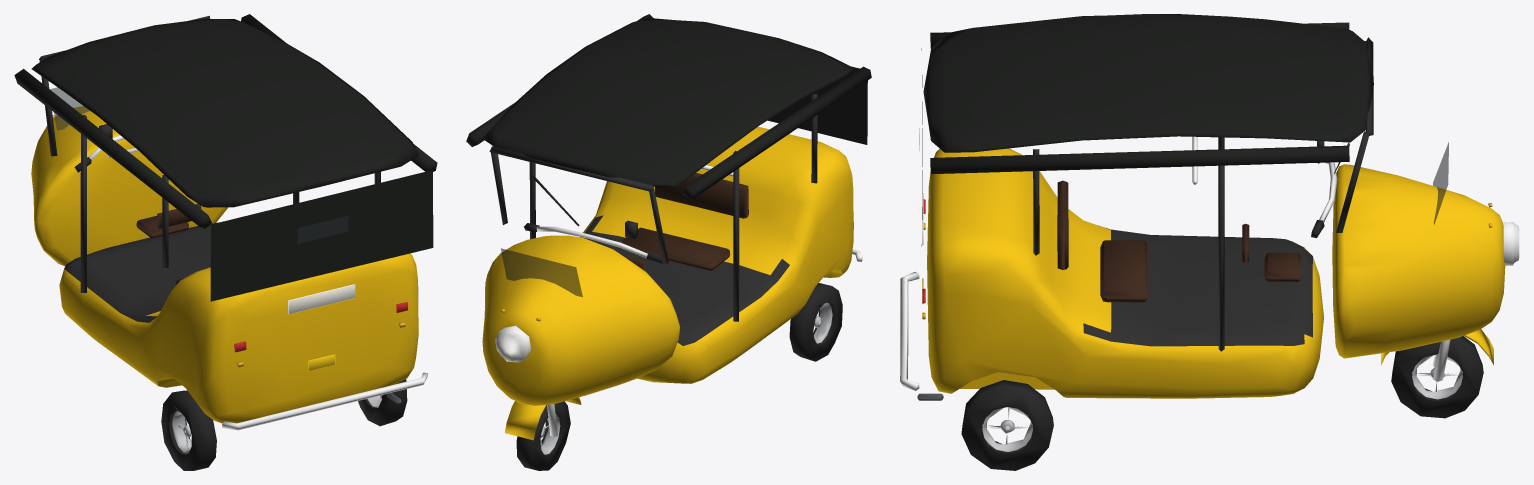
The model's file is auto_1_lo.glb.
The picture shows the model from 3 angles, left to right: view 1: azimuth 30°, elevation 25°; view 2: azimuth 150°, elevation 25°; view 3: azimuth 270°, elevation 25°; orthographic projection. The views are drawn at different scales.
Visible parts, largest first — view 1: body, wheel_1, wheel_2; view 2: body, wheel_1, wheel_0; view 3: body, wheel_2, wheel_0.
Part boxes in pixels (x1,y1,x2,y2): body: (14,14,437,430); wheel_1: (161,390,216,470); wheel_2: (358,379,407,426); body: (466,14,871,440); wheel_1: (789,283,842,361); wheel_0: (516,401,570,470); body: (900,14,1519,400); wheel_2: (961,380,1053,470); wheel_0: (1391,336,1483,418).
Size of the model in its own units: 1.42 by 1.75 by 2.81.
